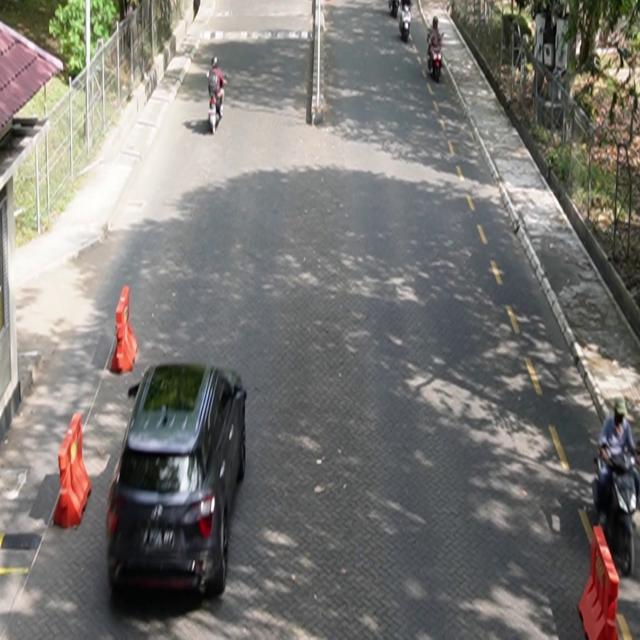car: (107, 362, 248, 599)
